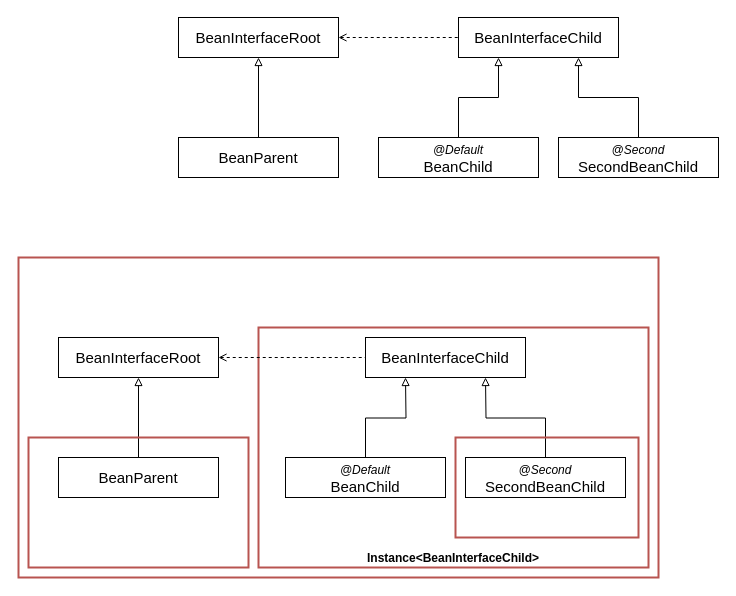
Some shapes in this 736 by 596 pixel diagram are drawn without their labels. The shapes that lost their labels are listed below. From the top down, each one's box as (x1, y1, x2, y2) in pixels, then its label:
(17, 256, 659, 578): Instance<BeanInterfaceRoot>
(27, 436, 249, 568): Instance<BeanParent>
(454, 436, 639, 538): Instance<BeanInterfaceChild> .select(new SecondLiteral())
